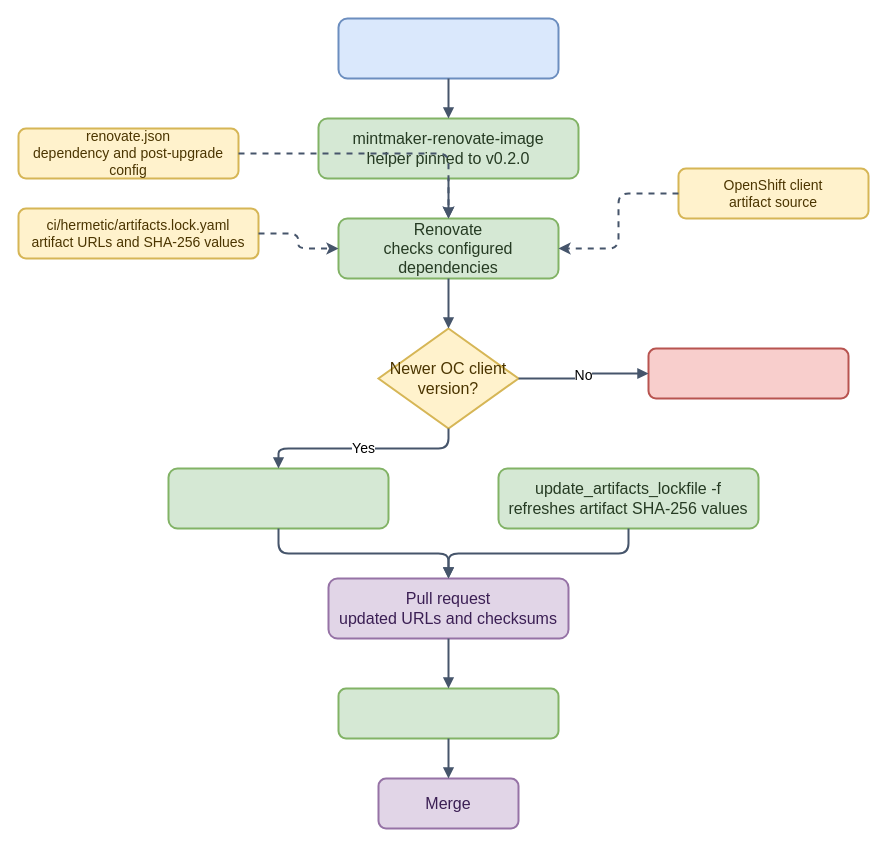
Some shapes in this 886 by 846 pixel diagram are drawn without their labels. The shapes that lost their labels are listed below. From the top down, each one's centre as x and y in pixels, then its label:
At (448,48): "MintMaker schedules a run".
At (748,373): "No update proposed".
At (278,498): "Renovate updates artifact URLs".
At (448,713): "Review + CI checks".
